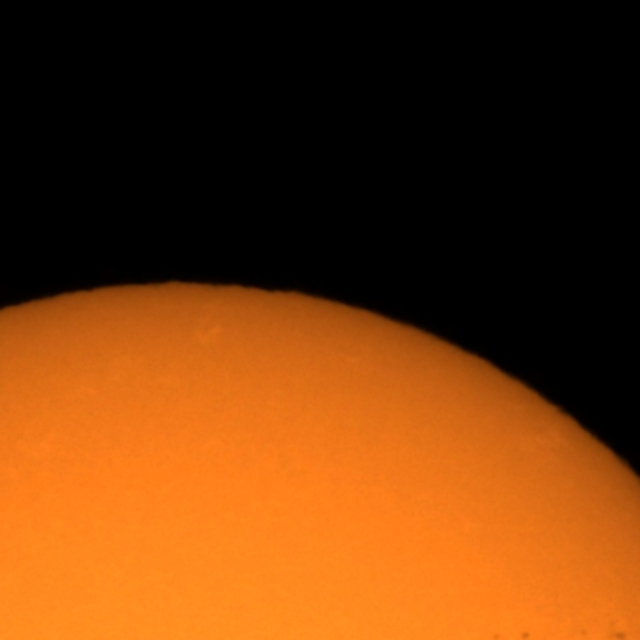sunspot: (608, 629, 630, 640), (519, 630, 533, 640)
